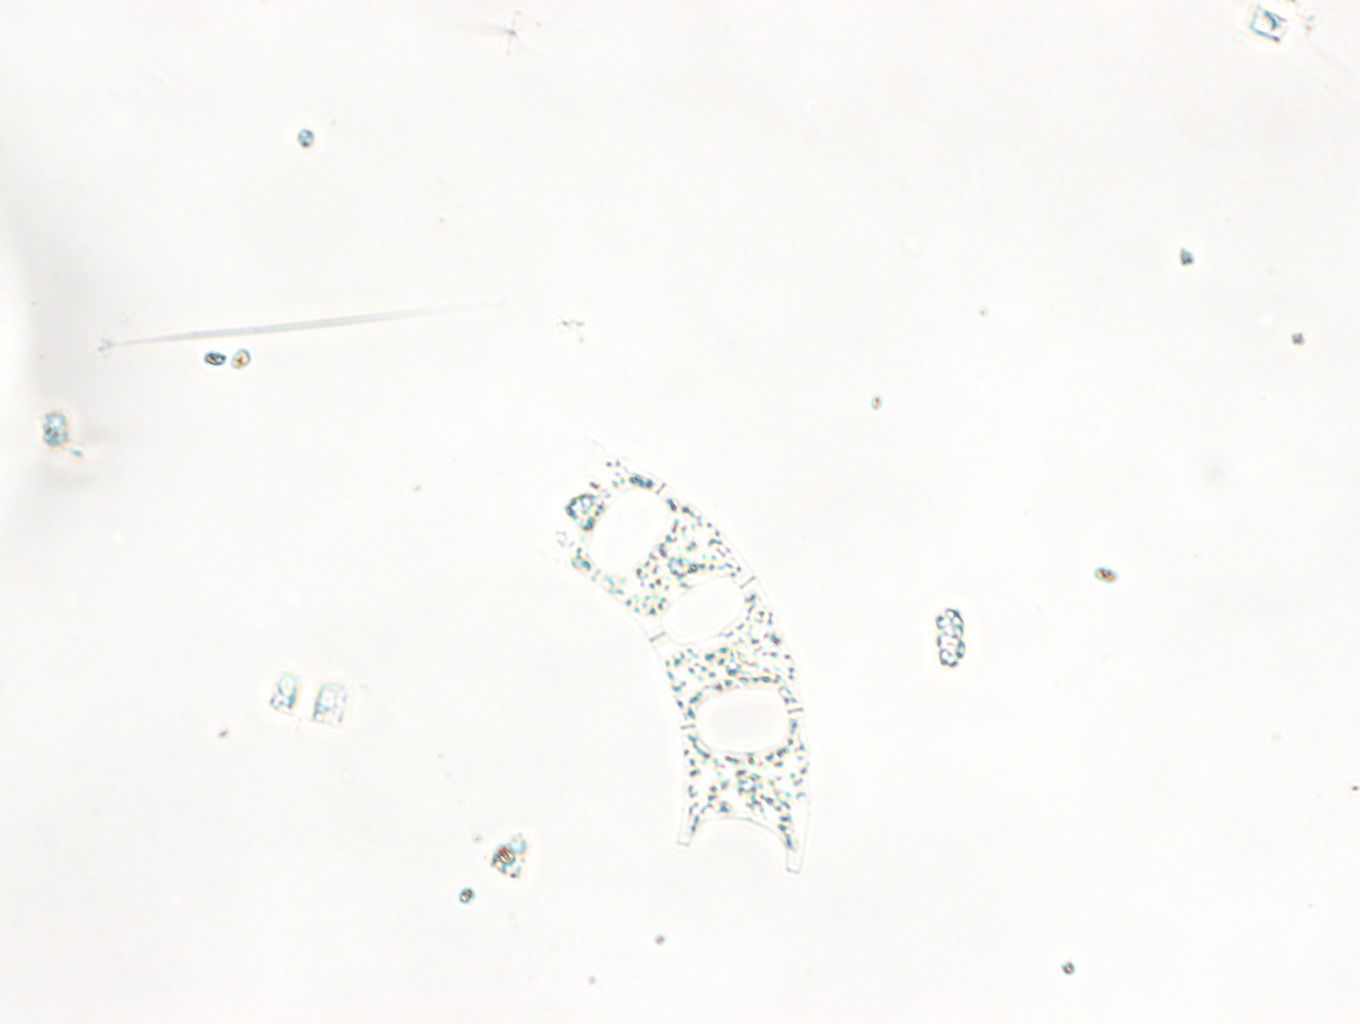eucampia: (536, 435, 811, 877)
skeletonema: (264, 669, 366, 730)
